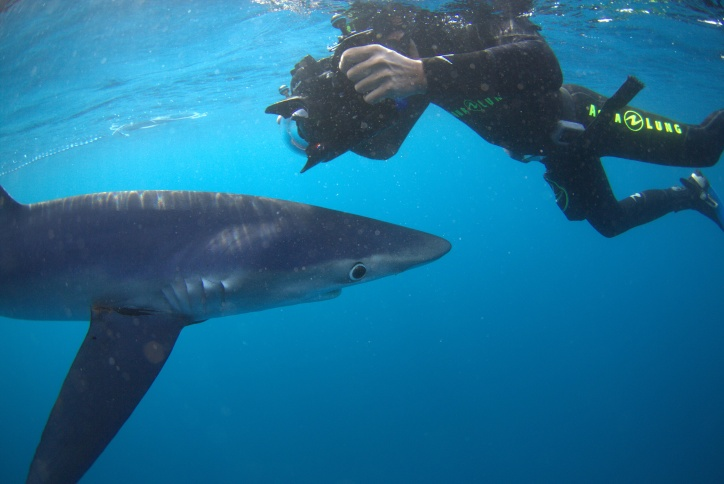Azul: (1, 116, 504, 483)
